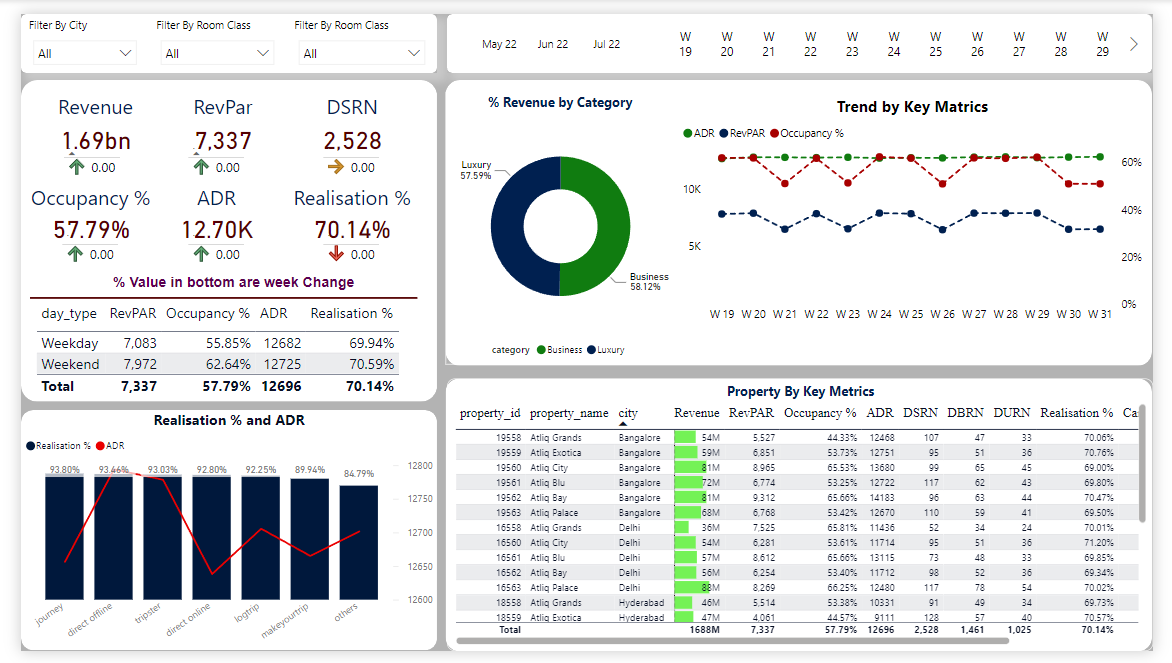

Layout of this report page (visuals, bound fields, positions):
{"tool":"powerbi","page":{"name":" home","canvas":[1280,720],"ordinal":0},"visuals":[{"type":"shape","box":[0,447.3,470.3,271.6],"z":0},{"type":"shape","box":[480.3,73.8,798.4,323],"z":1000},{"type":"shape","box":[480.3,411.5,798.4,308.2],"z":2000},{"type":"shape","box":[0,74.3,470.3,363.5],"z":3000},{"type":"shape","box":[0,0,470,66.7],"z":4000},{"type":"shape","box":[481.7,0,796.7,66.7],"z":5000},{"type":"shape","box":[9.8,309.8,437.7,21.3],"z":6000},{"type":"tableEx","title":"Property By Key Metrics","fields":{"Values":["Dim_Hotels.property_id","Dim_Hotels.property_name","Dim_Hotels.city","Key_Measures.Revenue","Key_Measures.RevPAR (Revenure per ava room)","Key_Measures.Occupancy %","Key_Measures.ADR(Avg Daily Rate)","Key_Measures.DSRN","Key_Measures.DBRN","Key_Measures.DURN","Key_Measures.Realisation %","Key_Measures.Cancellation %"]},"box":[481.8,411.4,797.7,308.1],"z":7000},{"type":"slicer","title":"Filter By City","fields":{"Values":["Dim_Hotels.city"]},"box":[0,0,144.1,66.1],"z":8000},{"type":"slicer","title":"Filter By Room Class","fields":{"Values":["Dim_Rooms.room_class"]},"box":[144.1,0,155.4,66.1],"z":9000},{"type":"slicer","fields":{"Values":["Dim_Date.mmm yy"]},"box":[481.4,0,237.2,66.7],"z":10000},{"type":"slicer","fields":{"Values":["Dim_Date.week no"]},"box":[699.1,0,574.1,66.1],"z":11000},{"type":"donutChart","title":"% Revenue by Category","fields":{"Category":["Dim_Hotels.category"],"Y":["Key_Measures.Occupancy %"]},"box":[480.2,87.6,258.1,308.1],"z":12000},{"type":"card","title":"RevPar","fields":{"Values":["Key_Measures.RevPAR (Revenure per ava room)"]},"box":[158,87.6,140.8,75.1],"z":13000},{"type":"card","title":"DSRN","fields":{"Values":["Key_Measures.DSRN"]},"box":[300.3,87.6,148.6,75.1],"z":14000},{"type":"card","title":"Realisation %","fields":{"Values":["Key_Measures.Realisation %"]},"box":[300,191.5,148.1,69.8],"z":15000},{"type":"card","title":"ADR","fields":{"Values":["Key_Measures.ADR(Avg Daily Rate)"]},"box":[157.4,191.5,126.4,69.8],"z":16000},{"type":"card","title":"Occupancy %","fields":{"Values":["Key_Measures.Occupancy %"]},"box":[0,191.5,157.4,69.8],"z":17000},{"type":"tableEx","fields":{"Values":["Key_Measures.Revenue WoW Change %"]},"box":[41.9,135.5,78.5,56.4],"z":18000},{"type":"slicer","title":"Filter By Room Class","fields":{"Values":["Dim_Rooms.room_class"]},"box":[300,0,170,66.7],"z":19000},{"type":"card","title":"Revenue","fields":{"Values":["Key_Measures.Revenue"]},"box":[5.4,88.4,158.1,75.2],"z":20000},{"type":"tableEx","fields":{"Values":["Key_Measures.Revpar WoW change%"]},"box":[182.6,134.9,76.2,56.4],"z":21000},{"type":"tableEx","fields":{"Values":["Key_Measures.DSRN WoW change %"]},"box":[335.5,134.9,78.5,55.8],"z":22000},{"type":"tableEx","fields":{"Values":["Key_Measures.Occupancy WoW change%"]},"box":[40.3,233.3,78.3,55.8],"z":23000},{"type":"tableEx","fields":{"Values":["Key_Measures.ADR WoW Change%"]},"box":[182.9,233.3,78.3,55.8],"z":24000},{"type":"tableEx","fields":{"Values":["Key_Measures.Realisation WoW change %"]},"box":[335.7,233.3,78.3,55.8],"z":25000},{"type":"textbox","box":[4.9,288.5,470.5,31.1],"z":26000},{"type":"tableEx","fields":{"Values":["Dim_Date.day_type","Key_Measures.RevPAR (Revenure per ava room)","Key_Measures.Occupancy %","Key_Measures.ADR(Avg Daily Rate)","Key_Measures.Realisation %"]},"box":[11.5,319.7,449.2,118],"z":27000},{"type":"lineStackedColumnComboChart","title":"Realisation % and ADR","fields":{"Category":["Fact_Bookings.booking_platform"],"Y":["Key_Measures.Realisation %"],"Y2":["Key_Measures.ADR(Avg Daily Rate)"]},"box":[0,447.3,470.3,273],"z":28000},{"type":"lineChart","title":"Trend by Key Matrics","fields":{"Category":["Dim_Date.mmm yy.Variation.Date Hierarchy.Month","Dim_Date.week no"],"Y":["Key_Measures.ADR(Avg Daily Rate)","Key_Measures.RevPAR (Revenure per ava room)"],"Y2":["Key_Measures.Occupancy %"]},"box":[738.3,87.6,534.9,272.2],"z":29000}]}

Visuals, with their boxes in screenshot pixels (x1, y1, x2, y2), scaled from the page's 1280x720 canvas onto the 1172x663 screenshot:
shape: {"left": 0, "top": 412, "right": 431, "bottom": 662}
shape: {"left": 440, "top": 68, "right": 1171, "bottom": 365}
shape: {"left": 440, "top": 379, "right": 1171, "bottom": 662}
shape: {"left": 0, "top": 68, "right": 431, "bottom": 403}
shape: {"left": 0, "top": 0, "right": 430, "bottom": 61}
shape: {"left": 441, "top": 0, "right": 1171, "bottom": 61}
shape: {"left": 9, "top": 285, "right": 410, "bottom": 305}
"Property By Key Metrics" tableEx: {"left": 441, "top": 379, "right": 1171, "bottom": 662}
"Filter By City" slicer: {"left": 0, "top": 0, "right": 132, "bottom": 61}
"Filter By Room Class" slicer: {"left": 132, "top": 0, "right": 274, "bottom": 61}
slicer - Dim_Date.mmm yy: {"left": 441, "top": 0, "right": 658, "bottom": 61}
slicer - Dim_Date.week no: {"left": 640, "top": 0, "right": 1166, "bottom": 61}
"% Revenue by Category" donutChart: {"left": 440, "top": 81, "right": 676, "bottom": 364}
"RevPar" card: {"left": 145, "top": 81, "right": 274, "bottom": 150}
"DSRN" card: {"left": 275, "top": 81, "right": 411, "bottom": 150}
"Realisation %" card: {"left": 275, "top": 176, "right": 410, "bottom": 241}
"ADR" card: {"left": 144, "top": 176, "right": 260, "bottom": 241}
"Occupancy %" card: {"left": 0, "top": 176, "right": 144, "bottom": 241}
tableEx - Key_Measures.Revenue WoW Change %: {"left": 38, "top": 125, "right": 110, "bottom": 177}
"Filter By Room Class" slicer: {"left": 275, "top": 0, "right": 430, "bottom": 61}
"Revenue" card: {"left": 5, "top": 81, "right": 150, "bottom": 151}
tableEx - Key_Measures.Revpar WoW change%: {"left": 167, "top": 124, "right": 237, "bottom": 176}
tableEx - Key_Measures.DSRN WoW change %: {"left": 307, "top": 124, "right": 379, "bottom": 176}
tableEx - Key_Measures.Occupancy WoW change%: {"left": 37, "top": 215, "right": 109, "bottom": 266}
tableEx - Key_Measures.ADR WoW Change%: {"left": 167, "top": 215, "right": 239, "bottom": 266}
tableEx - Key_Measures.Realisation WoW change %: {"left": 307, "top": 215, "right": 379, "bottom": 266}
textbox: {"left": 4, "top": 266, "right": 435, "bottom": 294}
tableEx - Dim_Date.day_type x Key_Measures.RevPAR (Revenure per ava room): {"left": 11, "top": 294, "right": 422, "bottom": 403}
"Realisation % and ADR" lineStackedColumnComboChart: {"left": 0, "top": 412, "right": 431, "bottom": 662}
"Trend by Key Matrics" lineChart: {"left": 676, "top": 81, "right": 1166, "bottom": 331}
